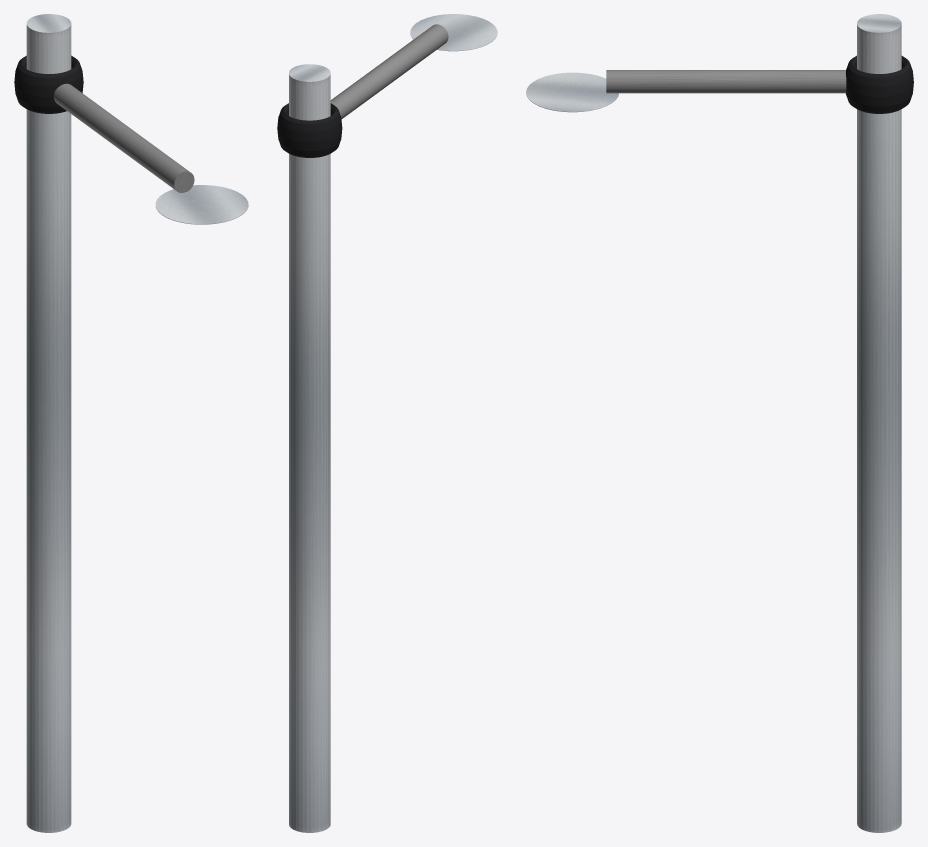
Rendered from mechanical_arm.obj.
3 renders of one model, left to right at view 1: azimuth 30°, elevation 25°; view 2: azimuth 150°, elevation 25°; view 3: azimuth 270°, elevation 25°, orthographic. The views are drawn at different scales.
Parts seen in each view (by area): view 1: Cylinder, Cylinder.001, Cylinder.002, Torus; view 2: Cylinder, Cylinder.001, Torus, Cylinder.002; view 3: Cylinder, Cylinder.001, Cylinder.002, Torus.
Boxes of the visible parts, bbox=[...] form: Cylinder: bbox=[26, 14, 71, 832]; Cylinder.001: bbox=[53, 83, 194, 192]; Cylinder.002: bbox=[155, 185, 248, 224]; Torus: bbox=[14, 55, 83, 113]; Cylinder: bbox=[289, 64, 330, 832]; Cylinder.001: bbox=[330, 24, 448, 118]; Torus: bbox=[277, 103, 342, 157]; Cylinder.002: bbox=[410, 14, 497, 51]; Cylinder: bbox=[857, 14, 901, 832]; Cylinder.001: bbox=[606, 70, 846, 93]; Cylinder.002: bbox=[526, 72, 618, 112]; Torus: bbox=[846, 55, 913, 113].
Size of the model in its own units: 0.42 by 3.98 by 1.75.
3 materials, 3 textured.
